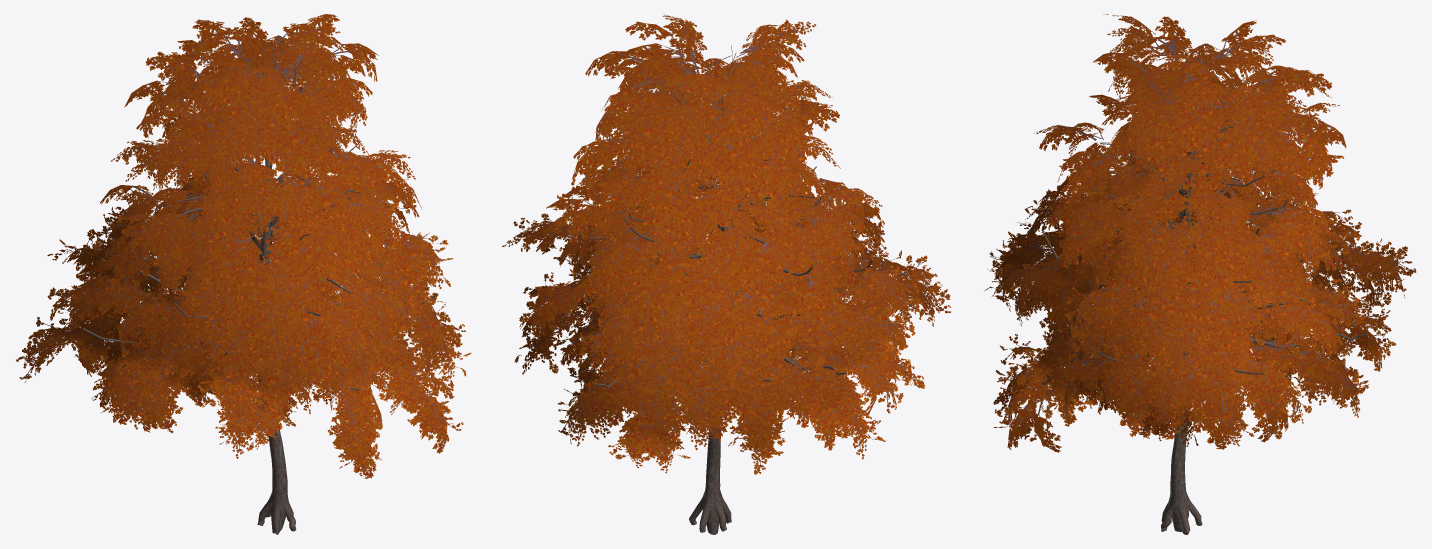
The picture shows the model from 3 angles, left to right: view 1: azimuth 30°, elevation 25°; view 2: azimuth 150°, elevation 25°; view 3: azimuth 270°, elevation 25°; orthographic projection.
Parts seen in each view (by area): view 1: SM_MapleTree_01_LOD0; view 2: SM_MapleTree_01_LOD0; view 3: SM_MapleTree_01_LOD0.
Boxes of the visible parts, x1,y1,x2,y2 form: SM_MapleTree_01_LOD0: [16, 14, 471, 534]; SM_MapleTree_01_LOD0: [502, 14, 950, 534]; SM_MapleTree_01_LOD0: [984, 14, 1416, 534].
Bounding box in the file's own units: 18.38 × 22.83 × 18.15.
2 materials, 2 textured.
